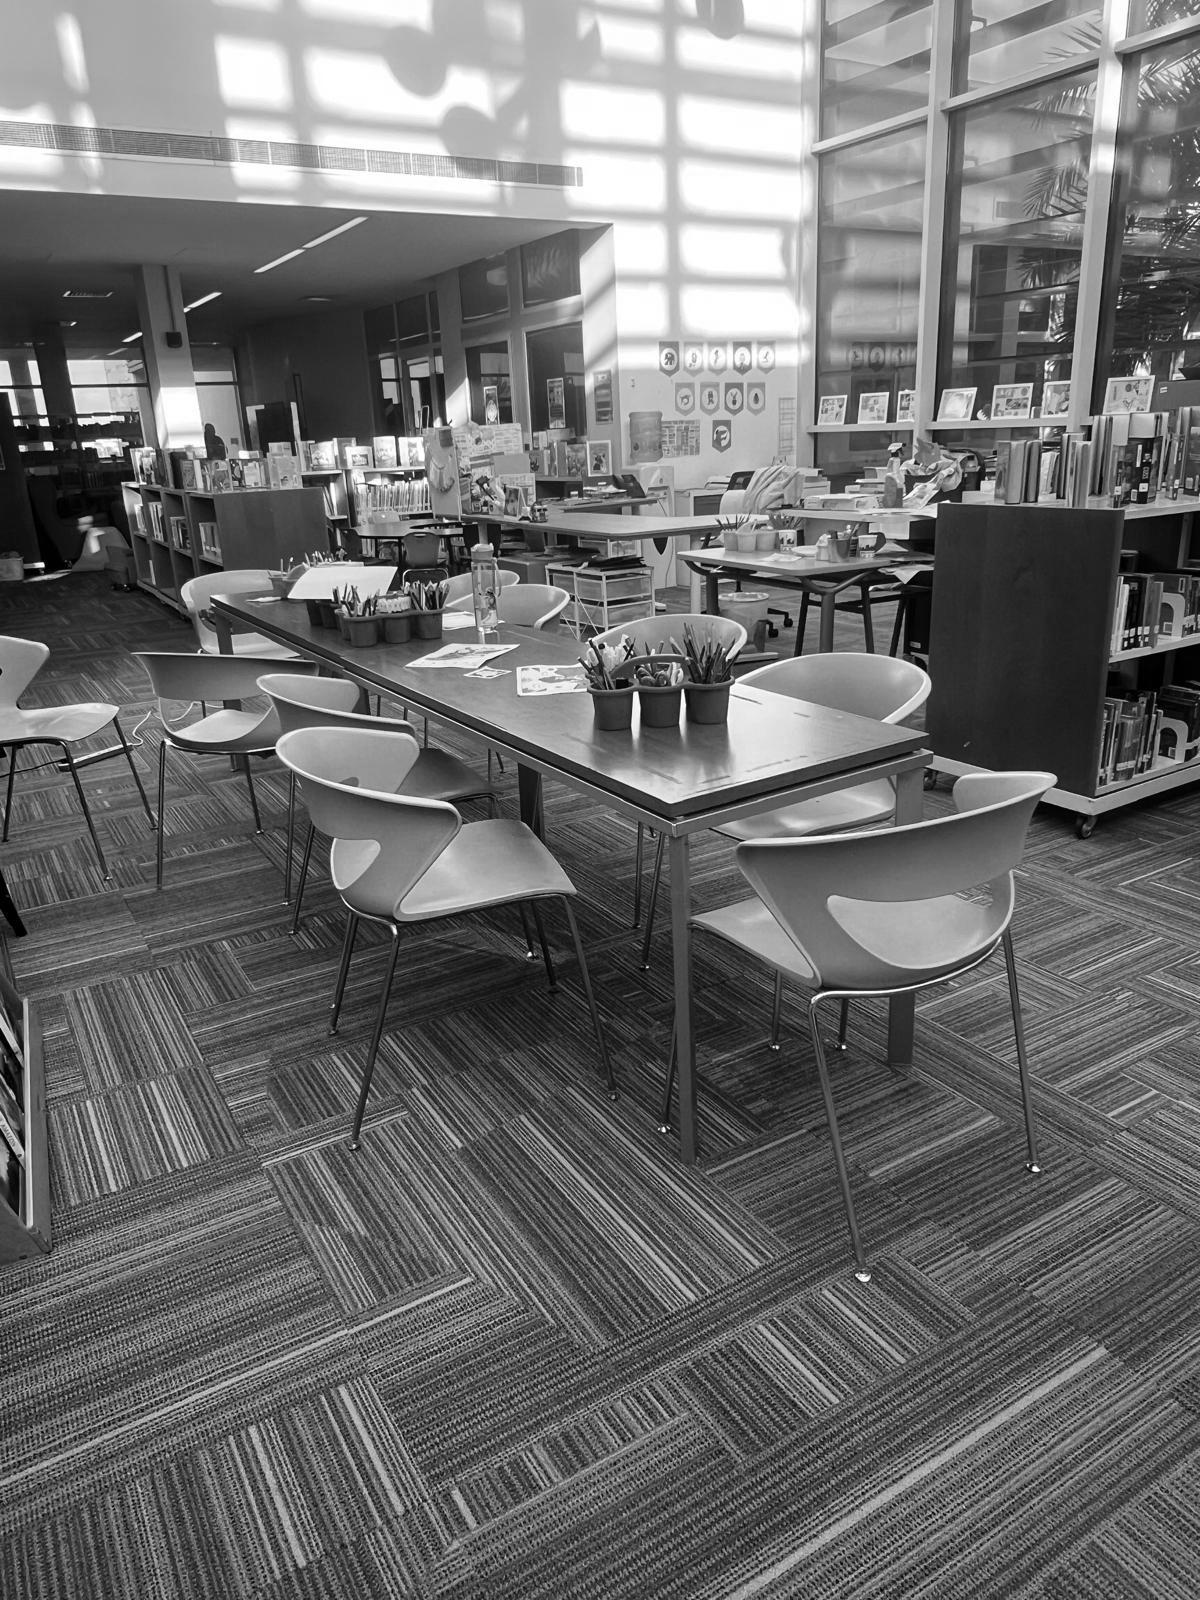Chair: (691, 771, 1055, 1280), (280, 727, 614, 1139), (0, 635, 154, 878), (135, 652, 280, 812), (741, 652, 930, 724), (593, 612, 746, 665), (182, 569, 269, 653), (499, 581, 568, 631), (232, 632, 289, 655), (447, 571, 471, 606), (499, 571, 518, 587), (450, 598, 470, 613)
Pillar: (136, 265, 203, 450)
Table: (258, 620, 923, 832), (679, 547, 889, 652), (548, 507, 719, 610)
